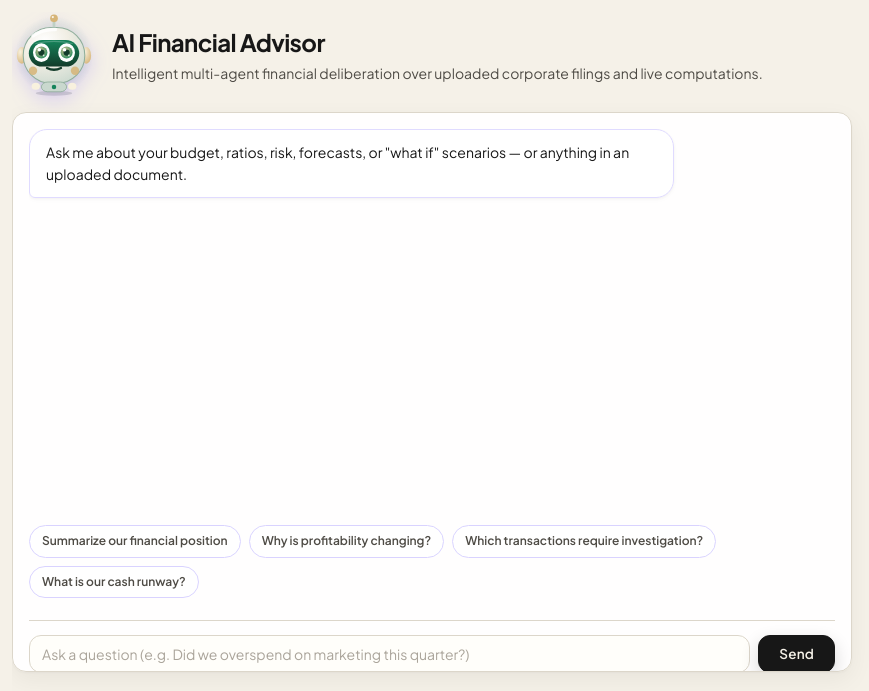
Scenario: AIAdvisor › sends the user's message and renders the assistant's reply
The width and height of the screenshot is (869, 691).
Type "Did we overspend on marketing?" into the field named "Message".
click(390, 654); type("Did we overspend on marketing?")  # box 29,635 -> 750,673
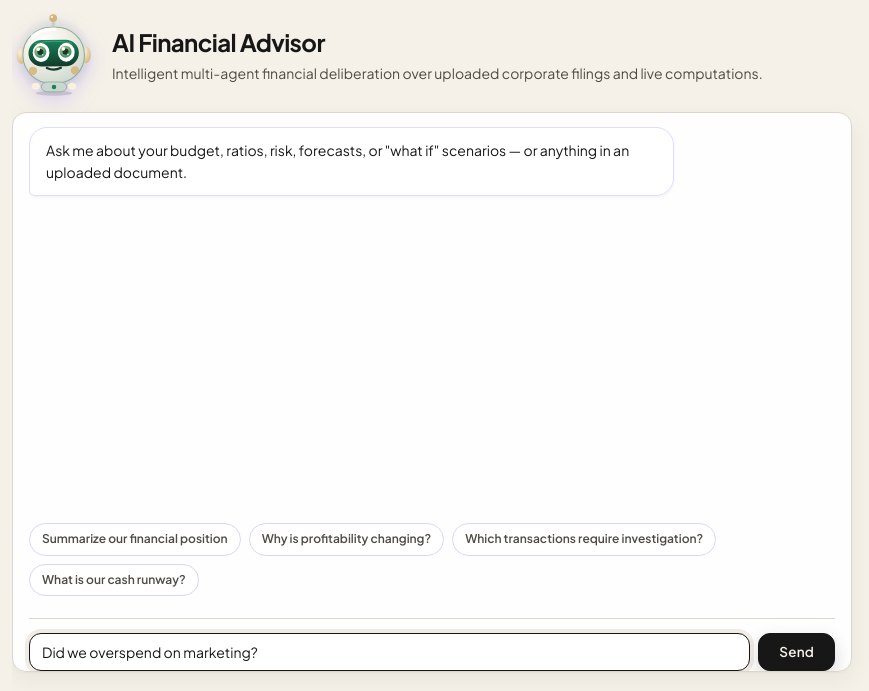
Click the button "Send".
click(797, 652)  # box 758,633 -> 835,671
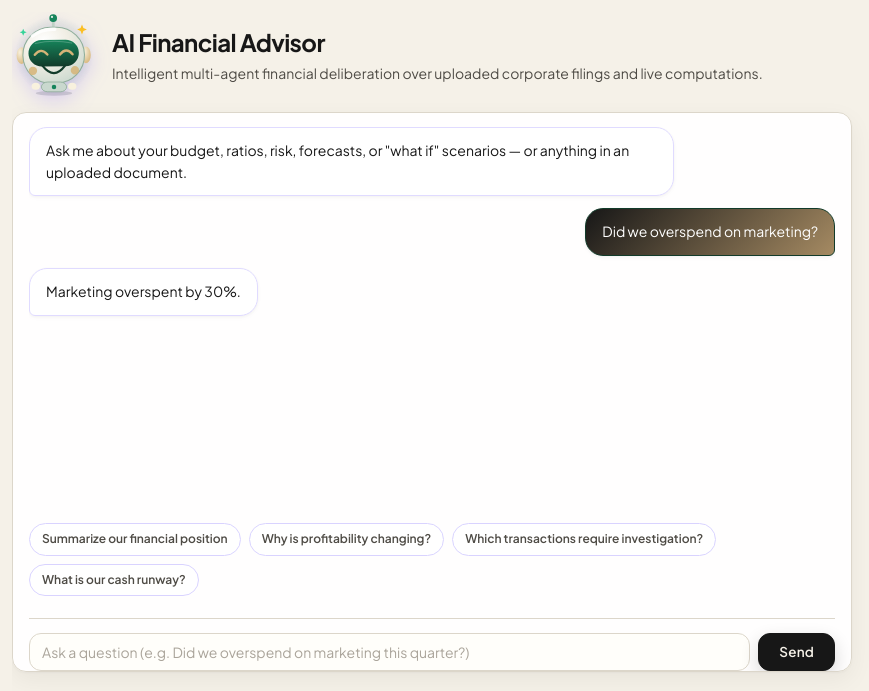
Expected: the element with test id "chat-log" shows "Did we overspend on marketing?", 602,222 -> 818,240
Expected: the element with test id "chat-log" shows "Marketing overspent by 30%.", 46,282 -> 241,300
